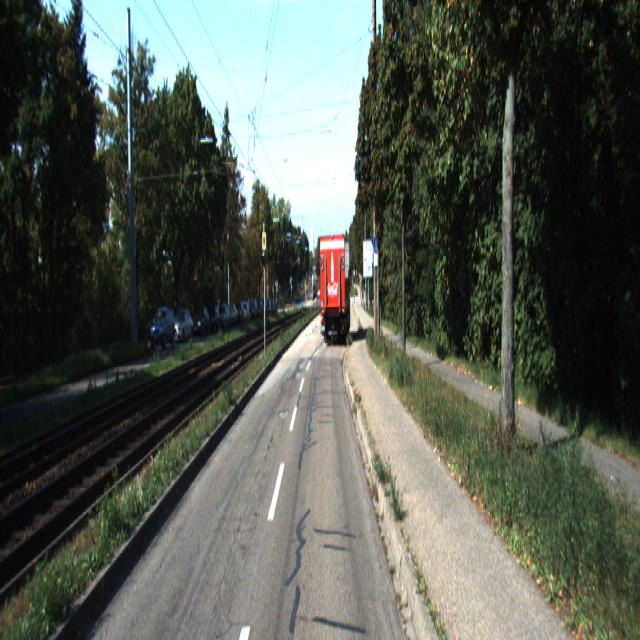Car: (317, 234, 352, 348), (149, 307, 177, 352), (167, 307, 192, 343), (189, 303, 210, 335)
